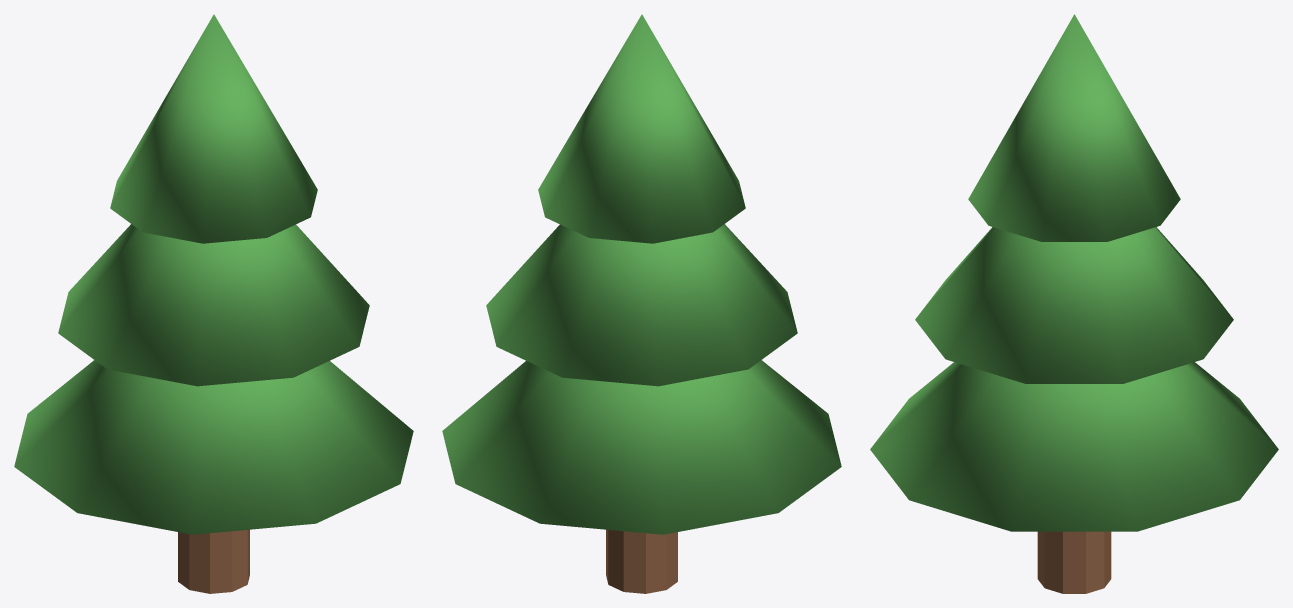
Rendered from tree_pine.glb.
3 renders of one model, left to right at view 1: azimuth 30°, elevation 25°; view 2: azimuth 150°, elevation 25°; view 3: azimuth 270°, elevation 25°, orthographic.
Visible parts, largest first — view 1: Tier0, Tier1, Tier2, Trunk; view 2: Tier0, Tier1, Tier2, Trunk; view 3: Tier0, Tier1, Tier2, Trunk.
Part boxes in pixels (x1,y1,x2,y2): Tier0: (14,360,413,534); Tier1: (58,224,369,386); Tier2: (110,14,317,243); Trunk: (178,529,249,593); Tier0: (442,360,841,534); Tier1: (486,224,797,386); Tier2: (538,14,745,243); Trunk: (606,529,677,593); Tier0: (870,362,1278,531); Tier1: (915,227,1233,383); Tier2: (968,14,1180,241); Trunk: (1037,531,1111,593).
Bounding box in the file's own units: 1.9 × 3.05 × 2.
